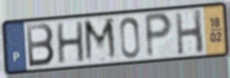0: (118, 15, 142, 60)
B: (24, 22, 56, 69)
H: (173, 8, 206, 57), (55, 19, 87, 66)
M: (82, 16, 119, 64)
P: (143, 11, 174, 60)
